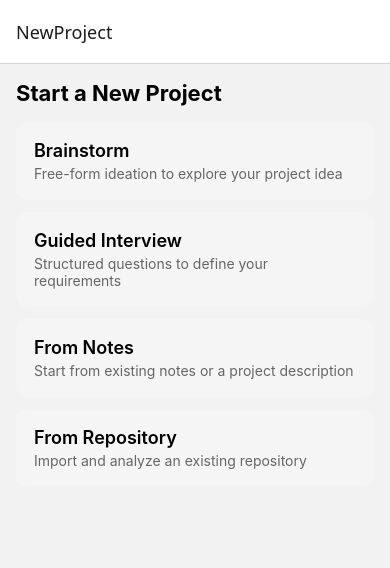
Scenario: NewProjectScreen › shows ActivityIndicator while startFlow is pending
Click the element with test id "flow-card-brainstorm" at (195, 161), box top-left (16, 122), bottom-right (374, 200)
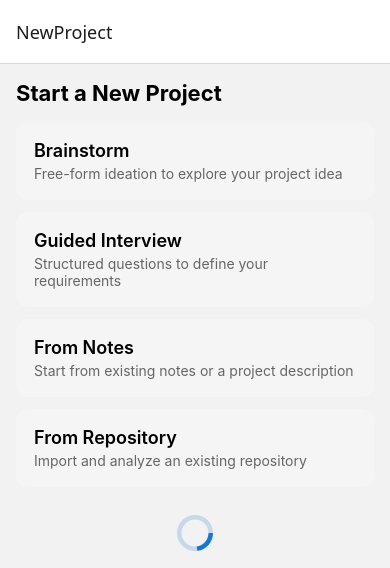
Expected: the progress indicator with test id "loading-indicator" is shown, top-left (177, 515), bottom-right (213, 551)
